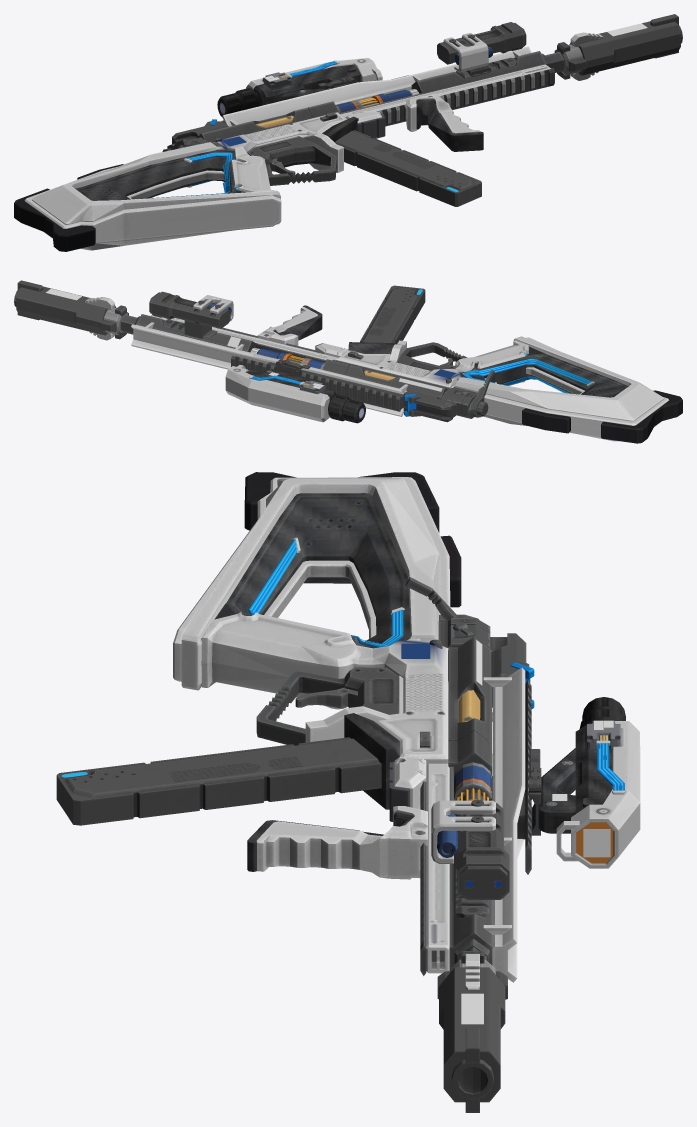
3 renders of one model, top to bottom at view 1: azimuth 30°, elevation 25°; view 2: azimuth 150°, elevation 25°; view 3: azimuth 270°, elevation 25°, orthographic. The views are drawn at different scales.
Visible parts, largest first — view 1: wp01b_a002b_sm.mo, wp01b_magazine002b_sm.mo, wp01b_muzzle002b_sm.mo, wp01b_scope002b_sm.mo, wp01b_attach002b_sm.mo; view 2: wp01b_a002b_sm.mo, wp01b_scope002b_sm.mo, wp01b_muzzle002b_sm.mo, wp01b_attach002b_sm.mo, wp01b_magazine002b_sm.mo; view 3: wp01b_a002b_sm.mo, wp01b_magazine002b_sm.mo, wp01b_scope002b_sm.mo, wp01b_muzzle002b_sm.mo, wp01b_attach002b_sm.mo.
Part boxes in pixels (<box>): wp01b_a002b_sm.mo: <box>14,46,564,251</box>; wp01b_magazine002b_sm.mo: <box>335,130,481,206</box>; wp01b_muzzle002b_sm.mo: <box>554,14,682,80</box>; wp01b_scope002b_sm.mo: <box>217,58,382,117</box>; wp01b_attach002b_sm.mo: <box>437,22,526,77</box>; wp01b_a002b_sm.mo: <box>120,305,682,443</box>; wp01b_scope002b_sm.mo: <box>225,359,365,423</box>; wp01b_muzzle002b_sm.mo: <box>14,280,128,340</box>; wp01b_attach002b_sm.mo: <box>149,291,233,338</box>; wp01b_magazine002b_sm.mo: <box>360,285,425,344</box>; wp01b_a002b_sm.mo: <box>173,472,534,982</box>; wp01b_magazine002b_sm.mo: <box>56,737,381,825</box>; wp01b_scope002b_sm.mo: <box>529,697,640,868</box>; wp01b_muzzle002b_sm.mo: <box>437,951,507,1112</box>; wp01b_attach002b_sm.mo: <box>431,799,509,899</box>.
Bounding box in the file's own units: 0.6709 × 0.0654 × 0.2784.
8 materials, 5 textured.
